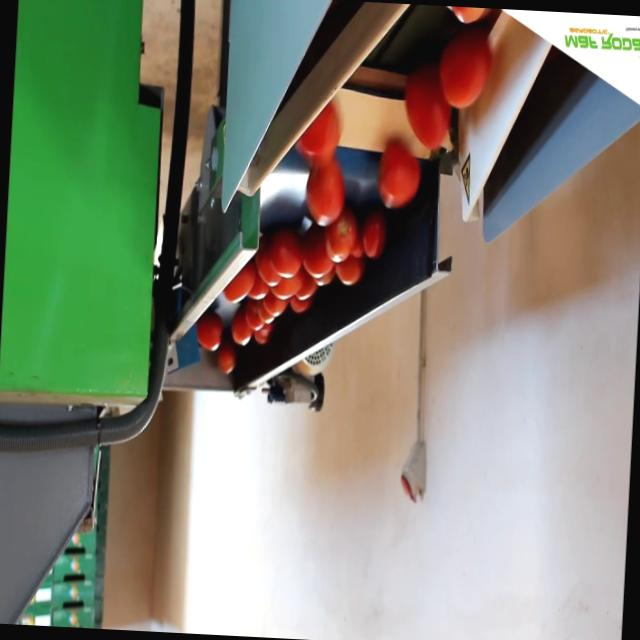Tomato: (397, 70, 453, 151), (438, 32, 494, 108), (372, 141, 421, 212), (294, 96, 346, 162), (304, 164, 349, 228), (319, 215, 360, 268), (218, 261, 254, 305), (270, 231, 304, 276), (300, 234, 334, 279), (197, 314, 224, 348), (256, 252, 280, 287), (270, 274, 300, 302), (364, 222, 386, 257), (446, 6, 486, 25), (230, 313, 252, 347), (338, 260, 361, 290), (294, 274, 316, 302), (247, 278, 266, 302), (218, 347, 235, 373), (262, 296, 282, 316), (291, 297, 310, 312), (254, 334, 270, 346)
